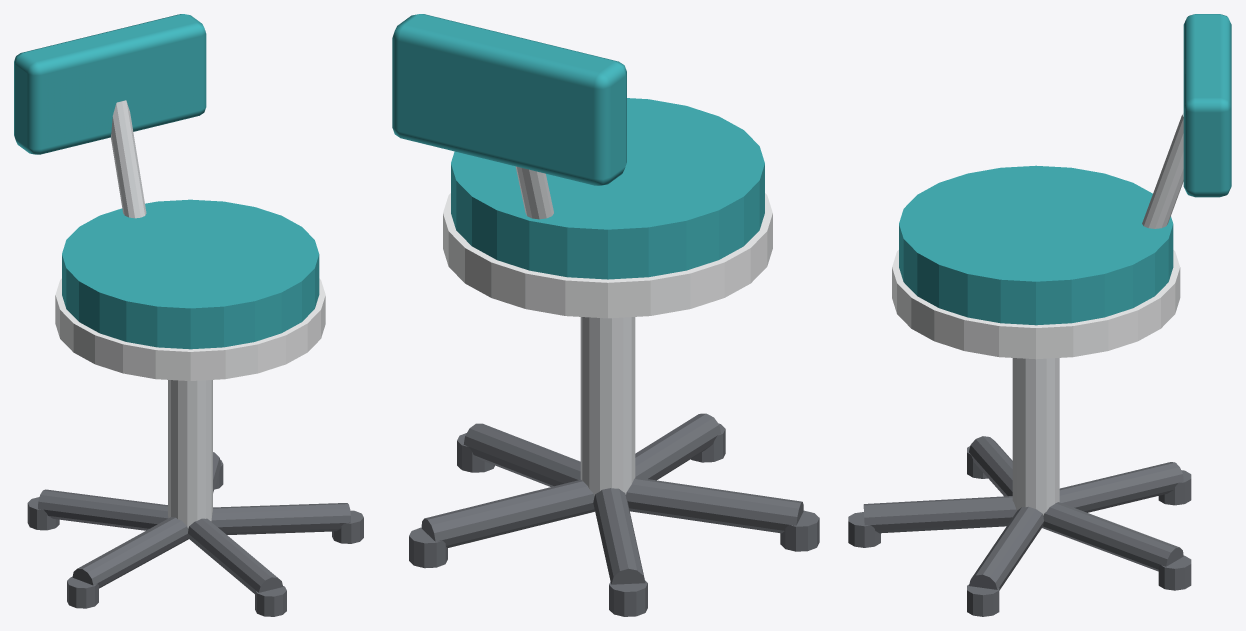
The model's file is dentist_stool.glb.
The picture shows the model from 3 angles, left to right: view 1: azimuth 30°, elevation 25°; view 2: azimuth 150°, elevation 25°; view 3: azimuth 270°, elevation 25°; orthographic projection. The views are drawn at different scales.
Visible parts, largest first — view 1: seat/teal, dentists-stool, seat/white, seat/steel; view 2: seat/teal, dentists-stool, seat/white, seat/steel; view 3: seat/teal, dentists-stool, seat/white, seat/steel.
Part boxes in pixels (bbox=[...]): seat/teal: bbox=[14, 14, 319, 349]; dentists-stool: bbox=[27, 380, 363, 616]; seat/white: bbox=[55, 278, 325, 380]; seat/steel: bbox=[111, 100, 146, 218]; seat/teal: bbox=[392, 14, 764, 279]; dentists-stool: bbox=[409, 317, 819, 616]; seat/white: bbox=[443, 193, 772, 318]; seat/steel: bbox=[515, 166, 553, 219]; seat/teal: bbox=[899, 14, 1231, 325]; dentists-stool: bbox=[848, 358, 1191, 616]; seat/white: bbox=[892, 250, 1180, 359]; seat/steel: bbox=[1142, 113, 1183, 228].
Bounding box in the file's own units: 0.5255 × 0.78 × 0.5588.
